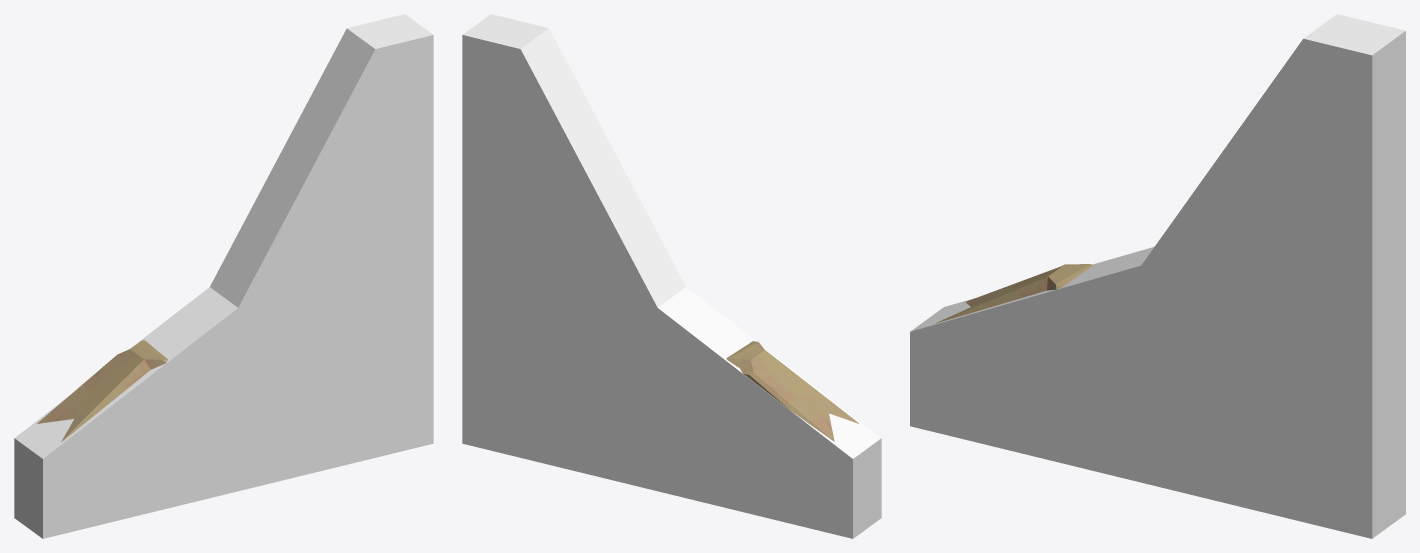
File: BrokenWall_Full_B.fbx
3 renders of one model, left to right at view 1: azimuth 30°, elevation 25°; view 2: azimuth 150°, elevation 25°; view 3: azimuth 330°, elevation 25°, orthographic. The views are drawn at different scales.
Visible parts, largest first — view 1: BrokenWall_B_COL, BrokenWall_B; view 2: BrokenWall_B_COL, BrokenWall_B; view 3: BrokenWall_B_COL, BrokenWall_B.
Part boxes in pixels (box(x1,y1,x2,y2)): BrokenWall_B_COL: box(14, 14, 433, 538); BrokenWall_B: box(37, 340, 167, 441); BrokenWall_B_COL: box(462, 14, 881, 538); BrokenWall_B: box(726, 341, 858, 441); BrokenWall_B_COL: box(910, 14, 1405, 538); BrokenWall_B: box(936, 264, 1093, 323).
Bounding box in the file's own units: 400 × 400 × 50.61.
